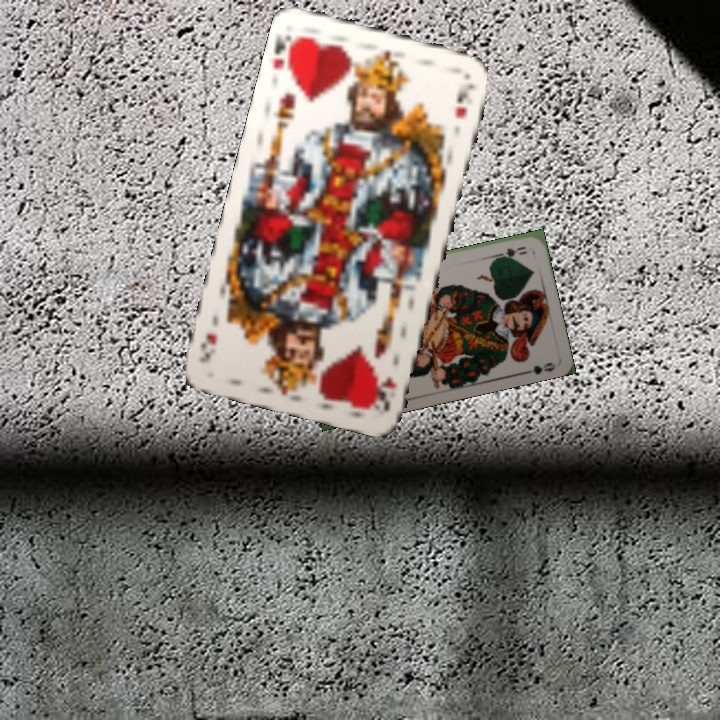GO: (491, 242, 530, 263)
HK: (268, 30, 303, 82), (371, 372, 399, 413)
